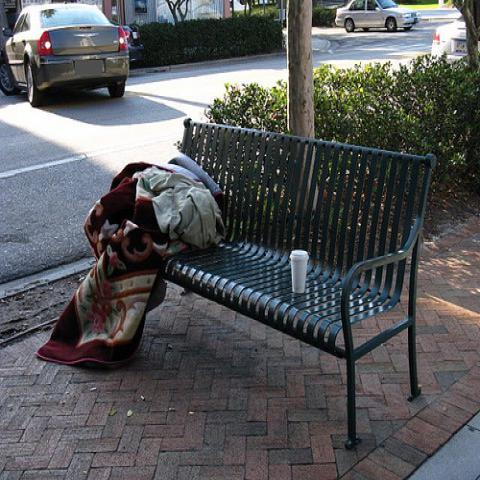car: (1, 3, 128, 107), (334, 0, 422, 34), (430, 16, 468, 64), (110, 20, 144, 64)
